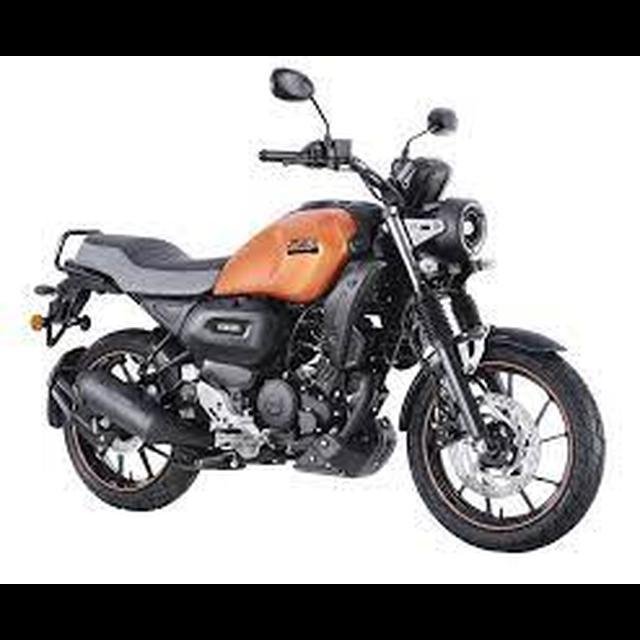motorcycle: (29, 61, 611, 556)
